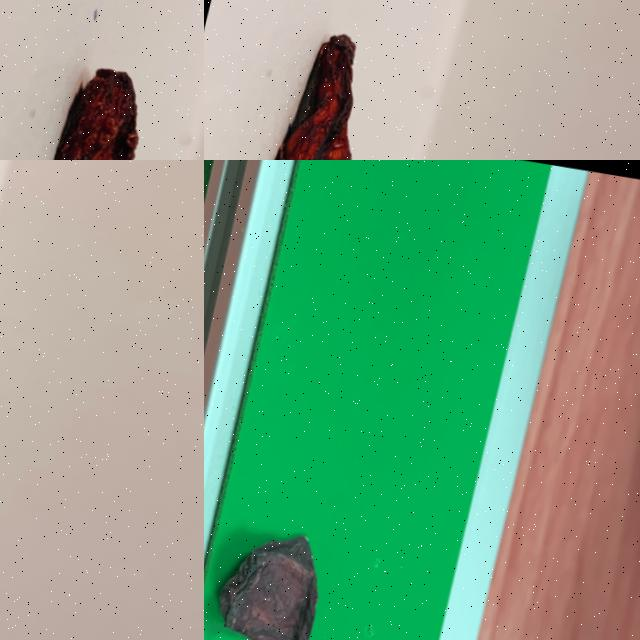Fine_cocoabeans: (204, 0, 455, 159)
Flat_cocoabeans: (204, 451, 384, 639), (0, 7, 193, 159)
